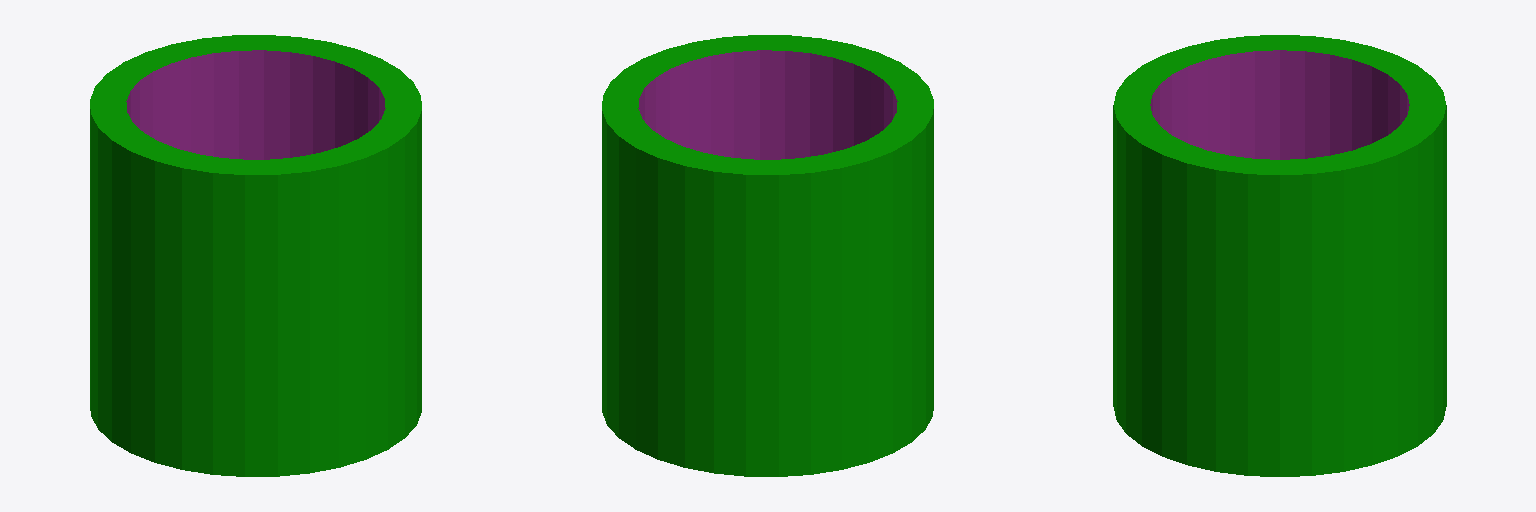
Rendered from simple_cup.obj.
3 views of the same model, side by side, from view 1: azimuth 30°, elevation 25°; view 2: azimuth 150°, elevation 25°; view 3: azimuth 270°, elevation 25° (orthographic).
Visible parts, largest first — view 1: Cylinder; view 2: Cylinder; view 3: Cylinder.
Part boxes in pixels (left/top/right/bottom): Cylinder: left=90, top=35, right=421, bottom=476; Cylinder: left=602, top=35, right=933, bottom=476; Cylinder: left=1113, top=35, right=1446, bottom=476.
Bounding box in the file's own units: 2 × 2 × 2.